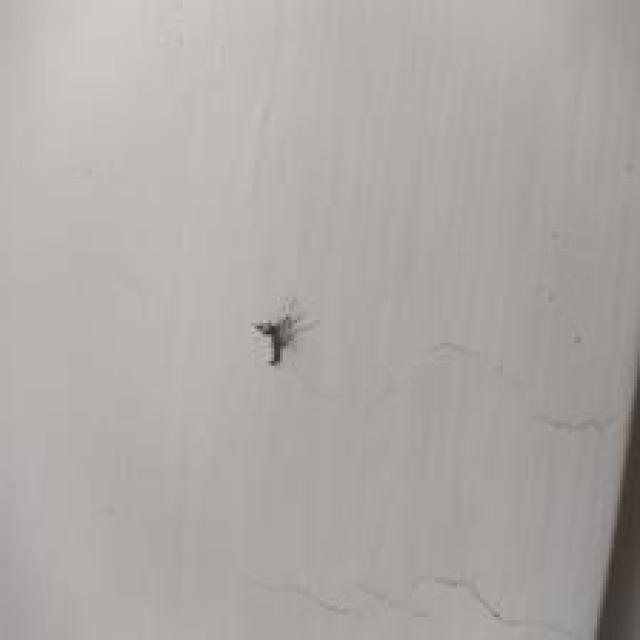Aedes albopictus: (250, 296, 319, 367)
